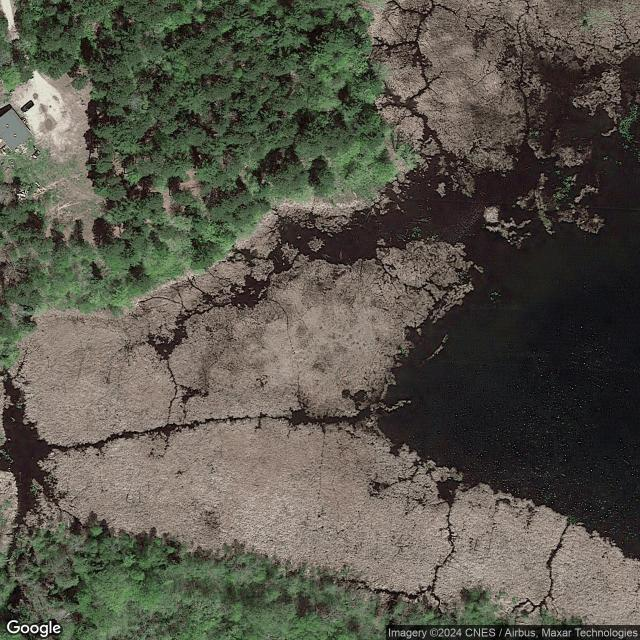Propane: (34, 181, 41, 188)
